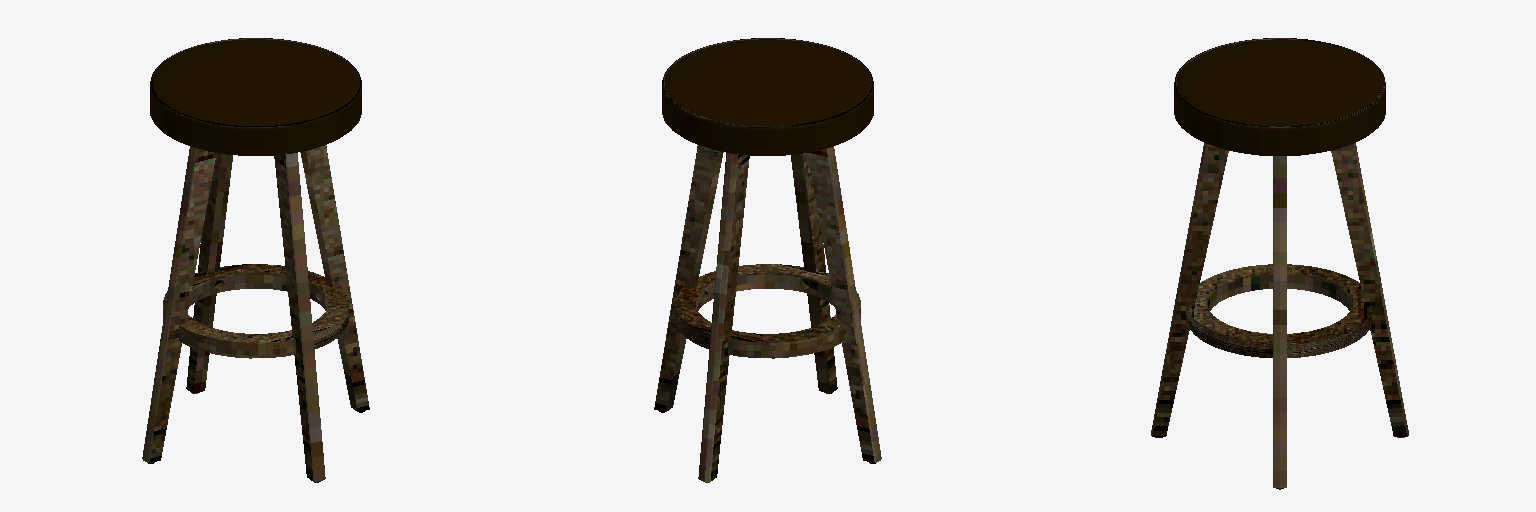
3 views of the same model, side by side, from view 1: azimuth 30°, elevation 25°; view 2: azimuth 150°, elevation 25°; view 3: azimuth 270°, elevation 25° (orthographic).
Parts seen in each view (by area): view 1: polySurface49; view 2: polySurface49; view 3: polySurface49.
Boxes of the visible parts, x1=… form: polySurface49: x1=142, y1=38, x2=369, y2=482; polySurface49: x1=654, y1=38, x2=881, y2=482; polySurface49: x1=1151, y1=38, x2=1408, y2=489.
Size of the model in its own units: 0.6251 by 0.9647 by 0.6251.
1 materials, 1 textured.